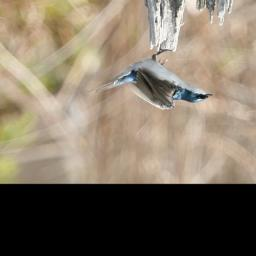Swallow: (88, 48, 214, 111)
